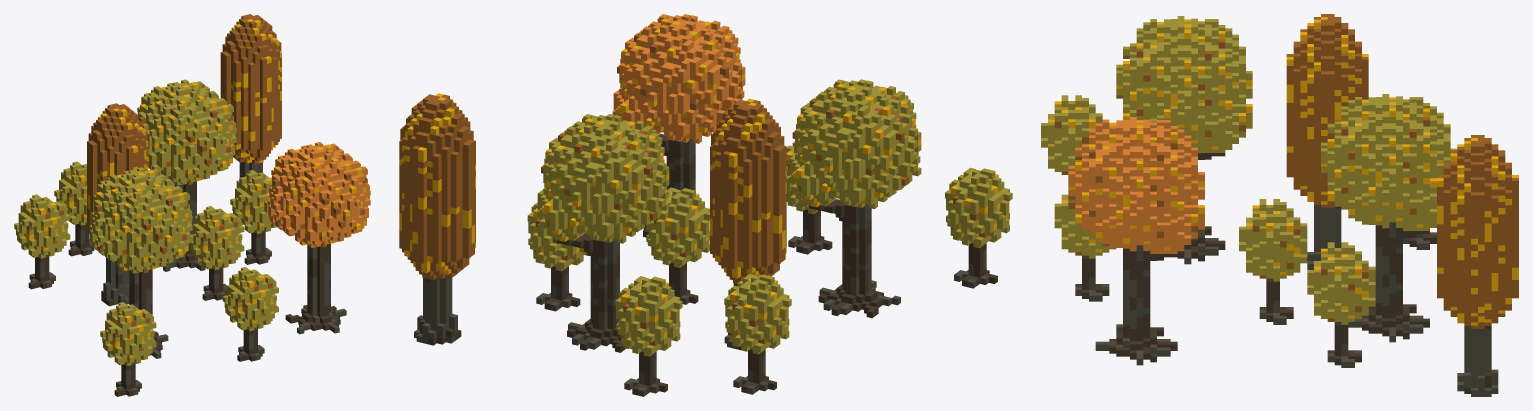
The model's file is trees_7_overtile.obj.
3 views of the same model, side by side, from view 1: azimuth 30°, elevation 25°; view 2: azimuth 150°, elevation 25°; view 3: azimuth 270°, elevation 25° (orthographic). The views are drawn at different scales.
Size of the model in its own units: 7.2 by 4 by 7.
1 material, 1 textured.
